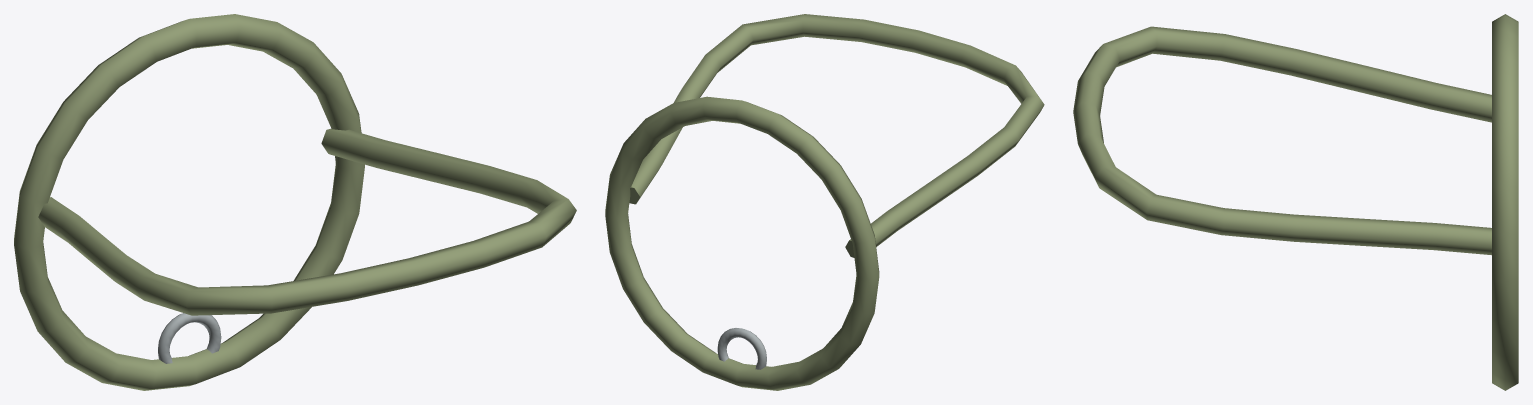
File: creature-husbandry-and-transport-training-halter-ef2d4460__24020.glb
The picture shows the model from 3 angles, left to right: view 1: azimuth 30°, elevation 25°; view 2: azimuth 150°, elevation 25°; view 3: azimuth 270°, elevation 25°; orthographic projection. The views are drawn at different scales.
Parts seen in each view (by area): view 1: training-halter; view 2: training-halter; view 3: training-halter.
Part boxes in pixels (box(x1,y1,x2,y2)): training-halter: box(14, 14, 576, 390); training-halter: box(605, 14, 1044, 390); training-halter: box(1073, 14, 1518, 390).
Bounding box in the file's own units: 0.7085 × 0.6101 × 0.7184.
